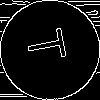T: (25, 25, 76, 64)
